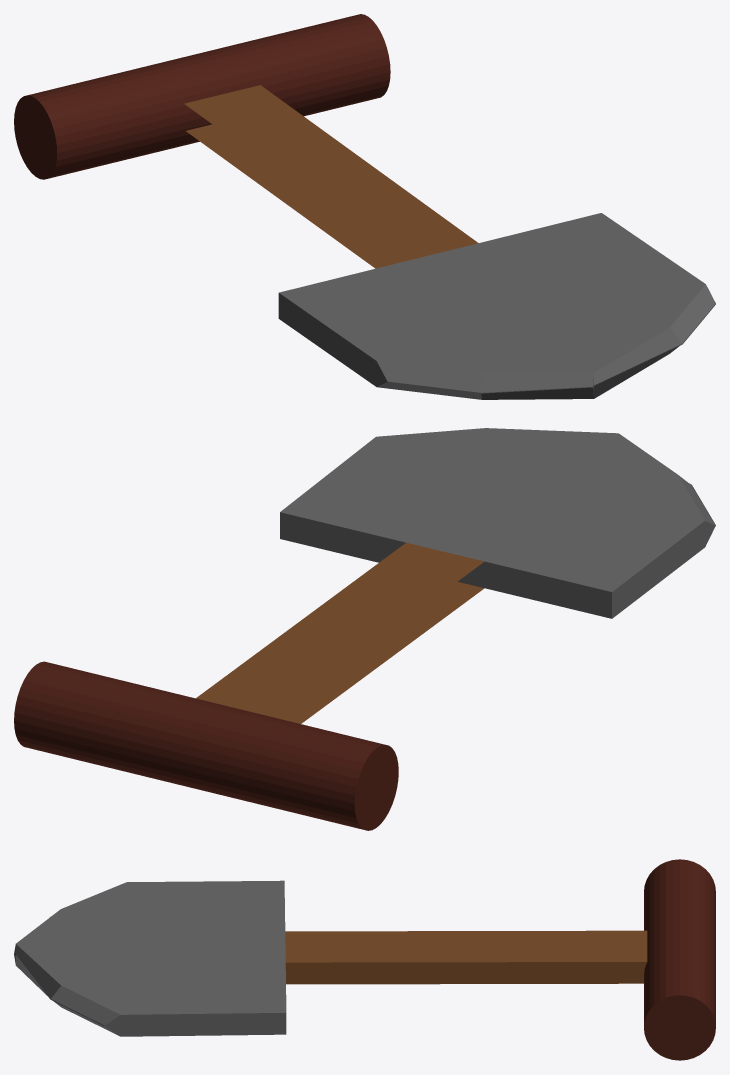
File: shovel.fbx
3 views of the same model, one above another, from view 1: azimuth 30°, elevation 25°; view 2: azimuth 150°, elevation 25°; view 3: azimuth 270°, elevation 25° (orthographic). The views are drawn at different scales.
Visible parts, largest first — view 1: Cube, Cylinder; view 2: Cube, Cylinder; view 3: Cube, Cylinder.
Part boxes in pixels (bbox=[...]): Cube: bbox=[184, 85, 715, 399]; Cylinder: bbox=[14, 14, 390, 179]; Cube: bbox=[196, 428, 715, 723]; Cylinder: bbox=[14, 661, 398, 830]; Cube: bbox=[14, 880, 647, 1036]; Cylinder: bbox=[644, 859, 715, 1060].
Bounding box in the file's own units: 291 × 64.85 × 631.
